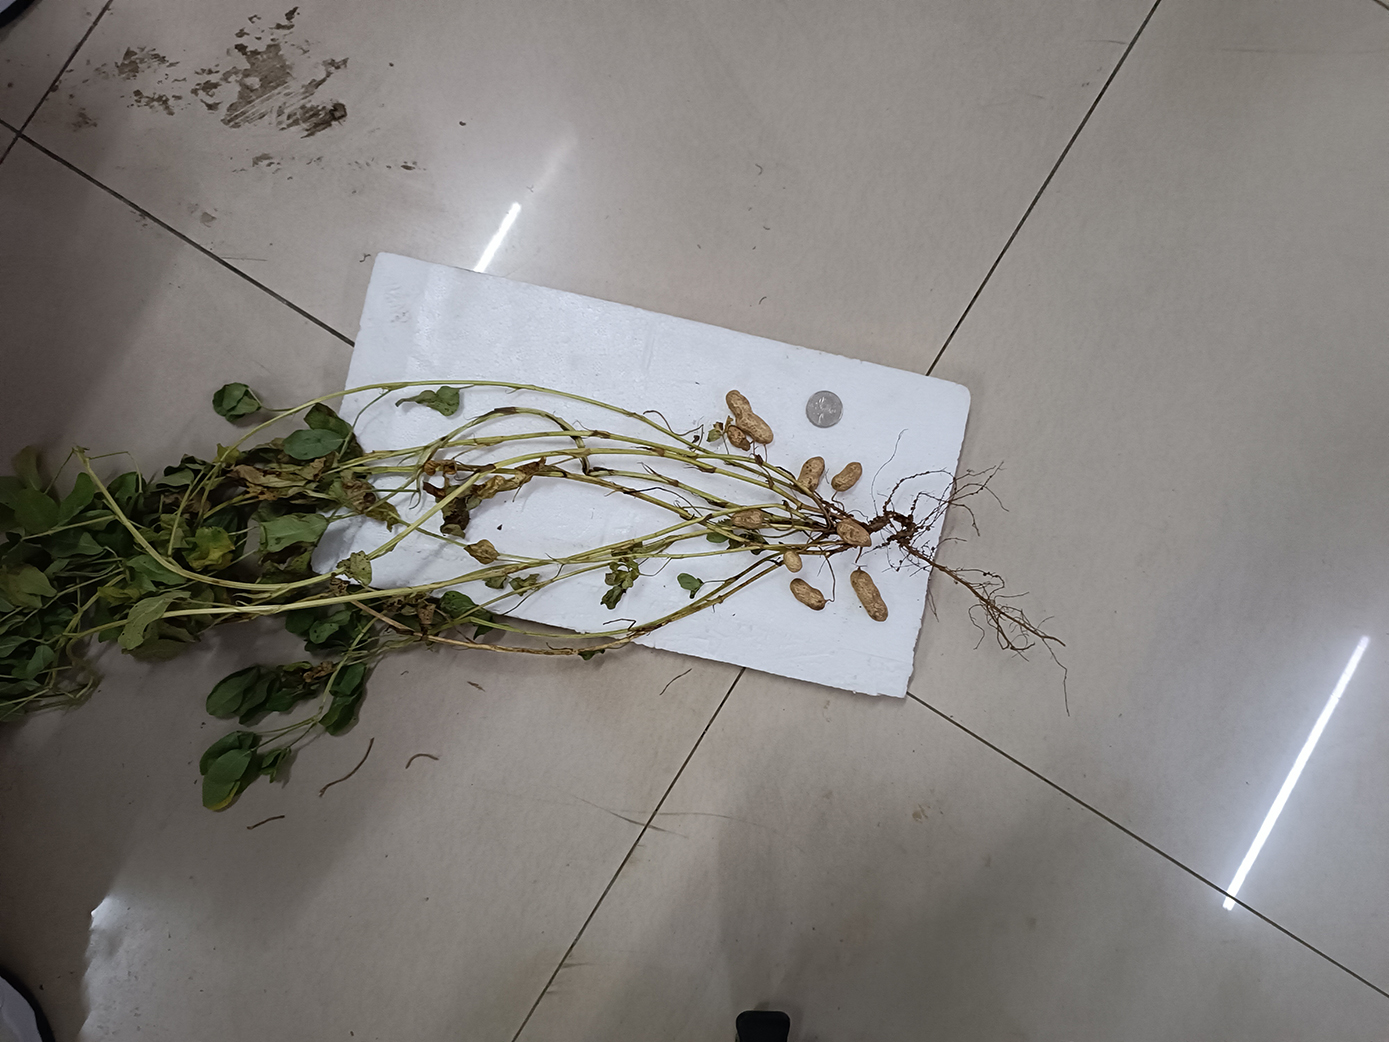h: (726, 389, 774, 444), (850, 570, 889, 622), (790, 578, 827, 611), (837, 518, 873, 548), (797, 455, 826, 493), (831, 461, 863, 493), (733, 507, 765, 528), (784, 548, 803, 574)
l: (728, 425, 752, 451)
